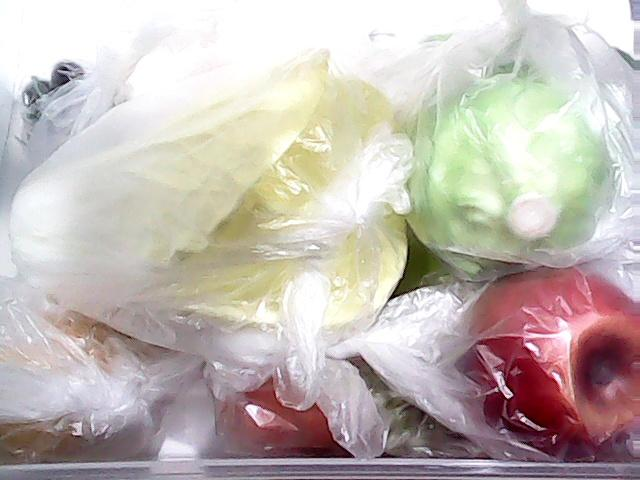apple: (456, 239, 640, 458)
cabbage: (400, 38, 620, 262)
grape: (356, 361, 466, 459), (7, 54, 105, 117)
napa cabbage: (10, 63, 476, 348)
peach: (206, 344, 372, 456)
potato: (1, 301, 171, 462)
